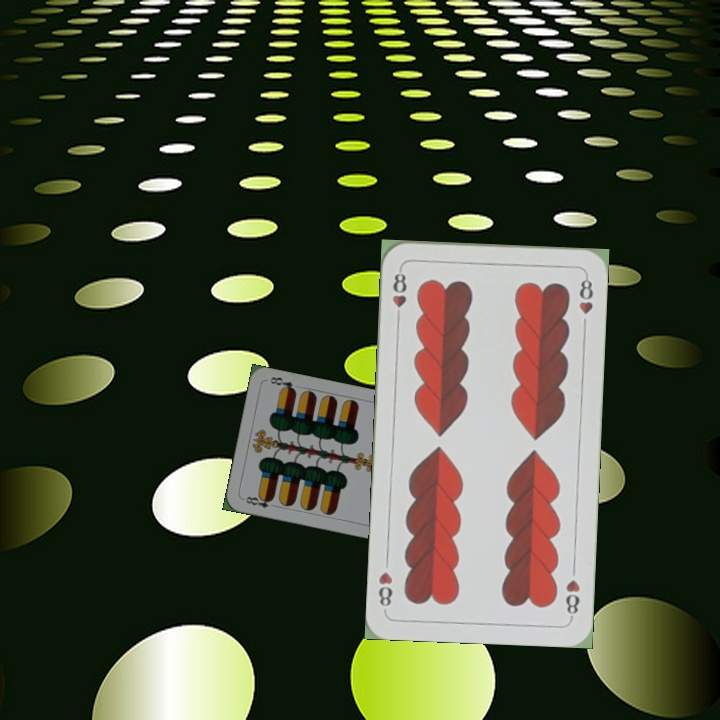E8: (239, 492, 276, 511)
H8: (389, 265, 409, 324), (561, 575, 582, 621)
